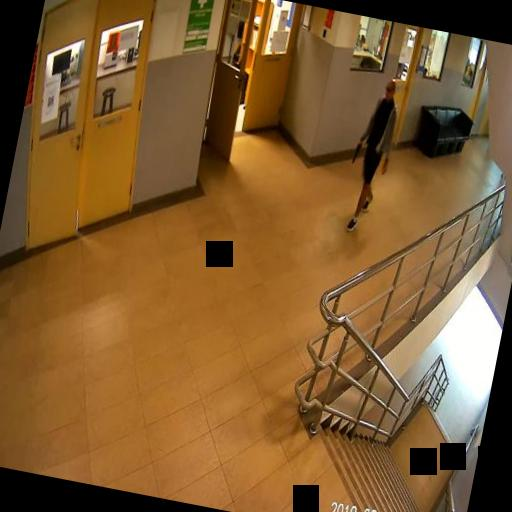Handgun: (351, 140, 361, 162)
